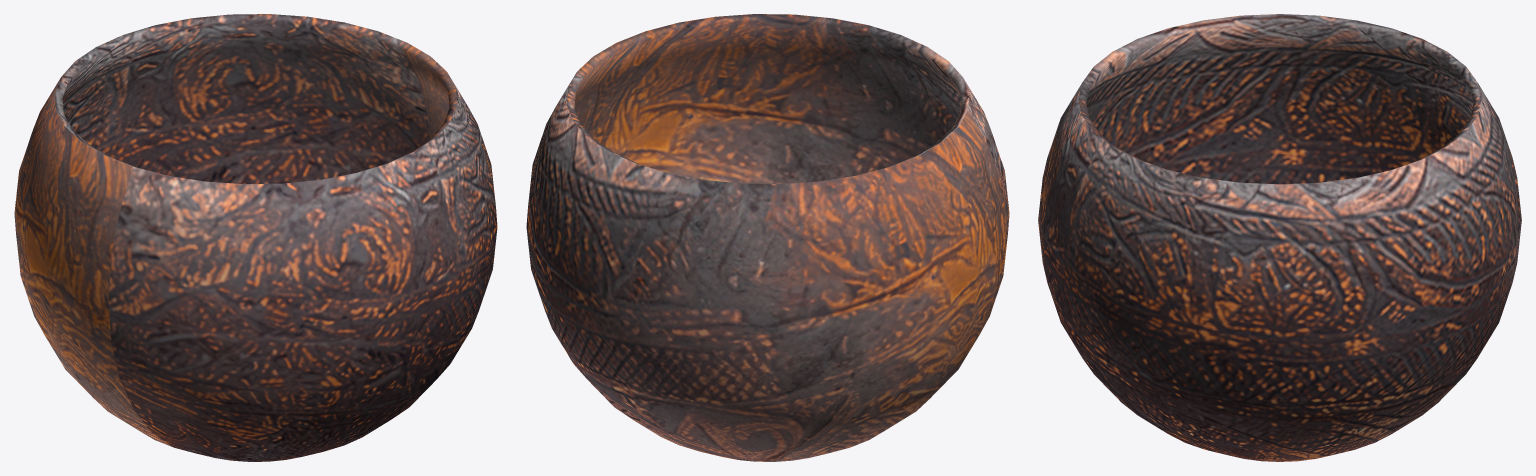
The model's file is jicara.glb.
The picture shows the model from 3 angles, left to right: view 1: azimuth 30°, elevation 25°; view 2: azimuth 150°, elevation 25°; view 3: azimuth 270°, elevation 25°; orthographic projection.
Parts seen in each view (by area): view 1: Sphere.001; view 2: Sphere.001; view 3: Sphere.001.
Boxes of the visible parts, x1,y1,x2,y2 form: Sphere.001: (14, 14, 497, 461); Sphere.001: (526, 14, 1009, 461); Sphere.001: (1038, 14, 1521, 461).
Bounding box in the file's own units: 0.196 × 0.1522 × 0.196.
1 material, 1 textured.
